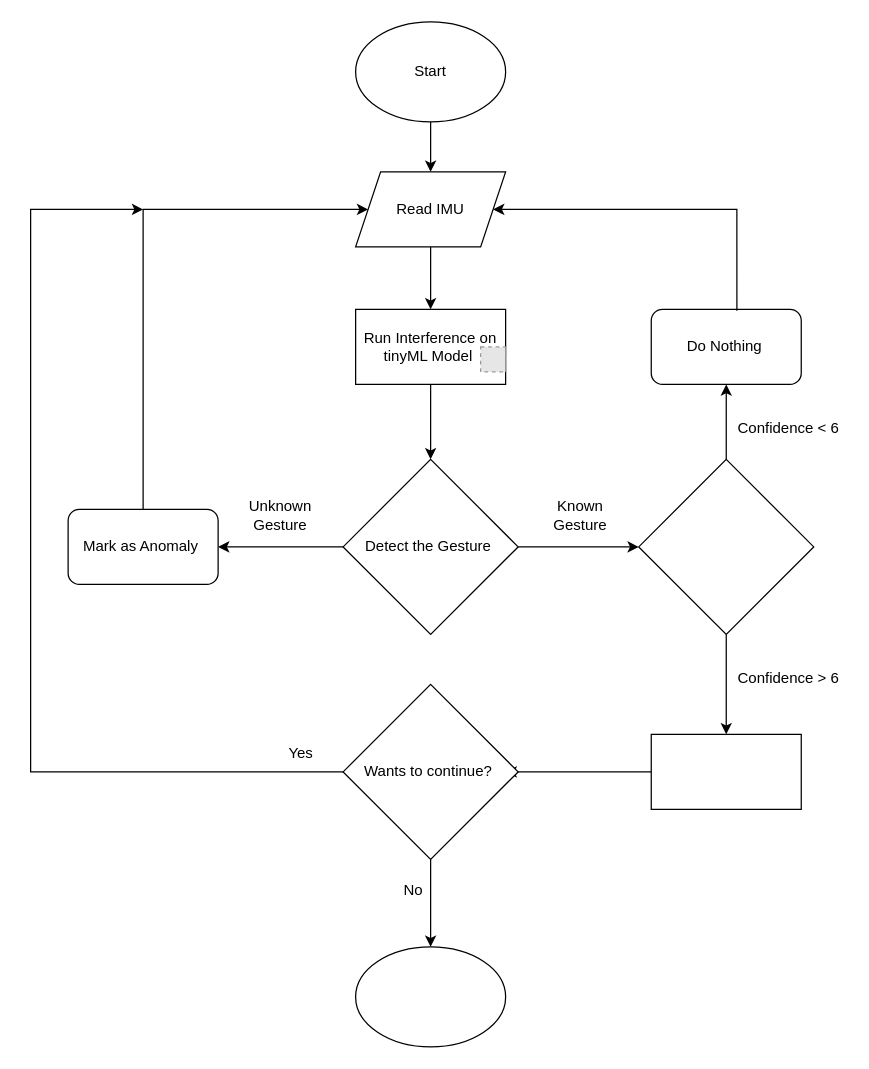
The diagram is 869 pixels wide and 1069 high, and some of its shapes have lost their labels. Grey dashed boxes stand in for pictures. Each missing label, with the centre of its shape:
Check Confidence Level: the point at 726,546
End: the point at 430,996
Perform Action: the point at 725,771
